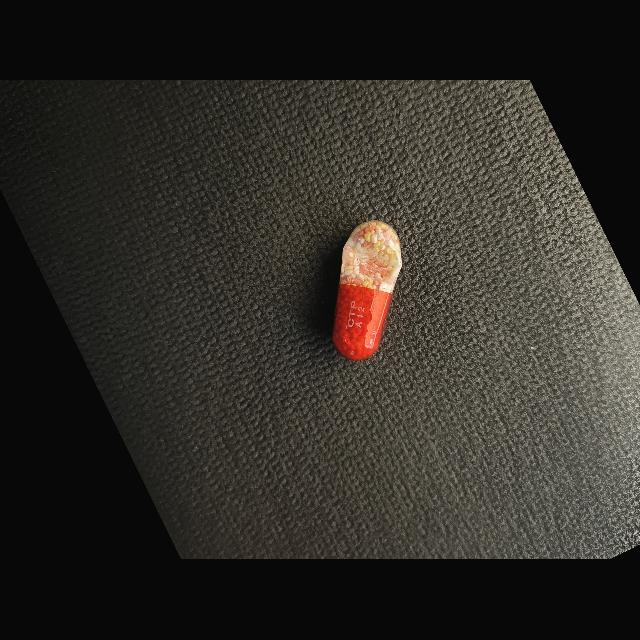Defective Capsule: (332, 221, 402, 361)
